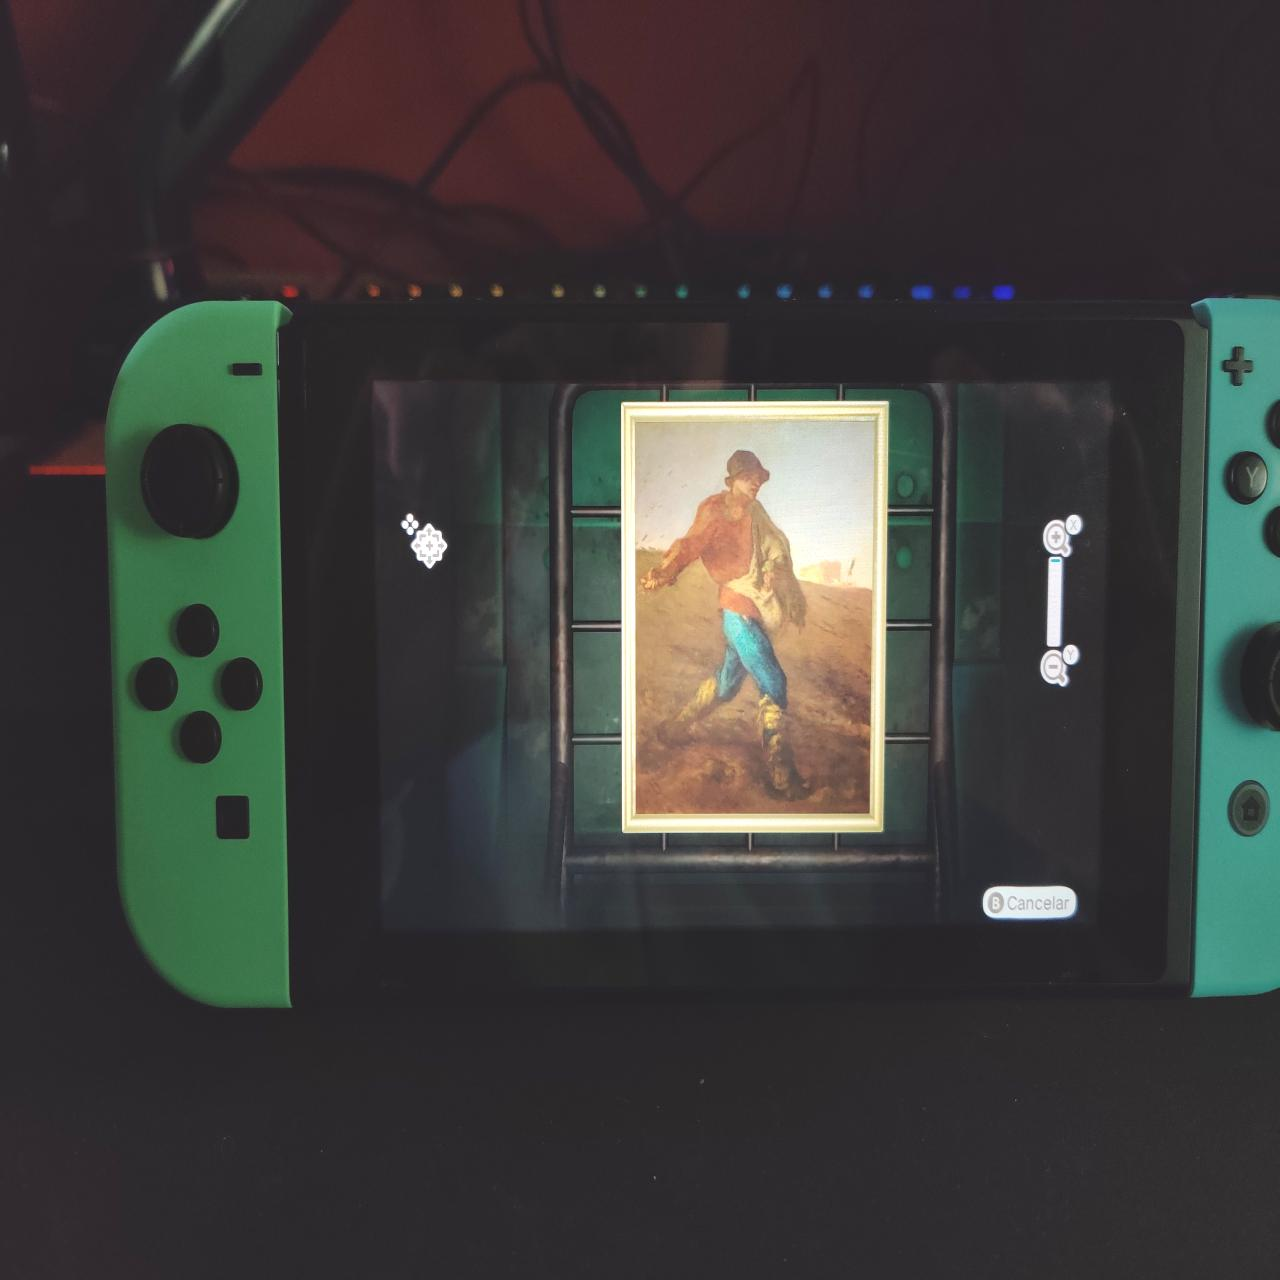Slower: (636, 421, 874, 821)
